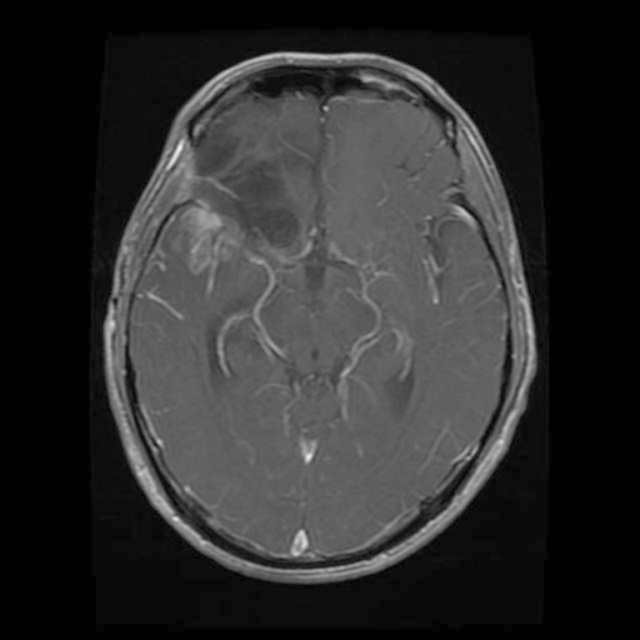pituitary tumor: (174, 204, 234, 276)
